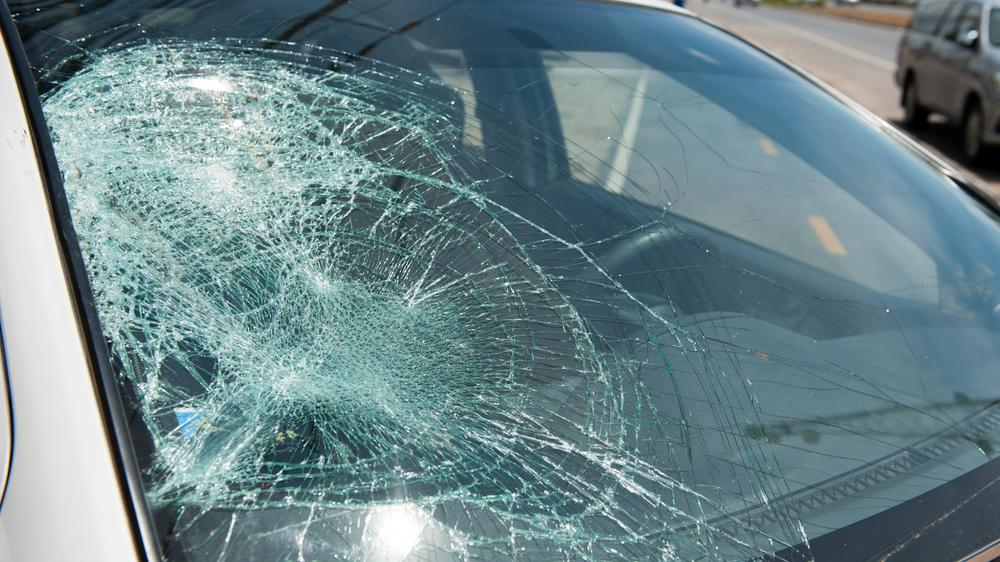glass shatter: (3, 0, 1000, 562)
